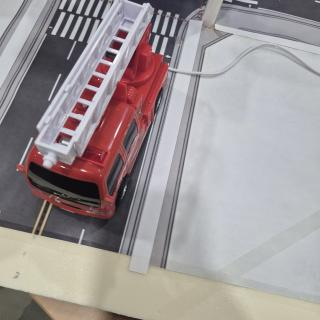Fire_truck: (17, 0, 168, 219)
